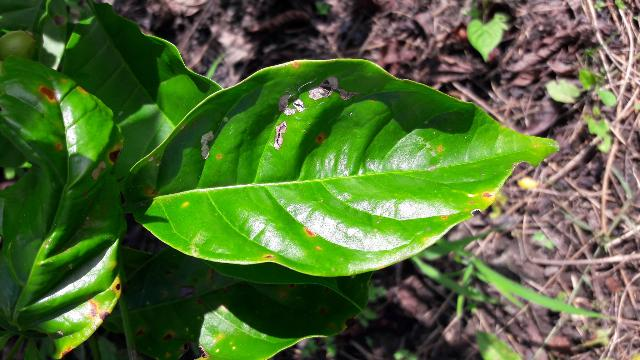red_spider_mite: (130, 62, 554, 275)
